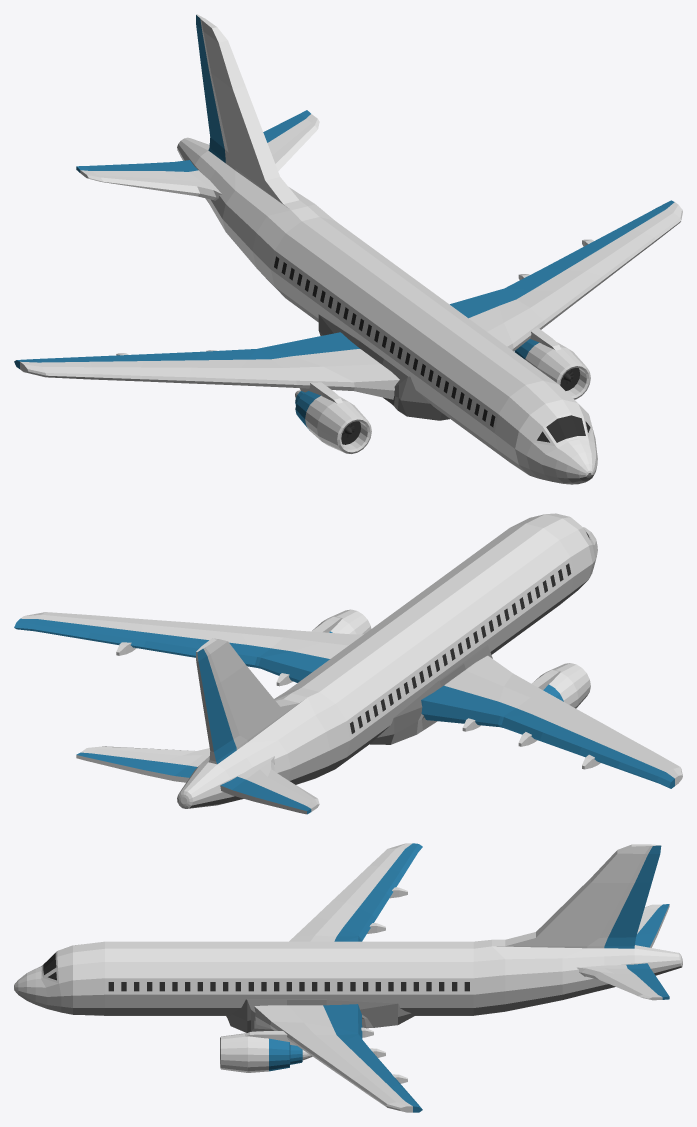
The model's file is Avion.obj.
The picture shows the model from 3 angles, top to bottom: view 1: azimuth 30°, elevation 25°; view 2: azimuth 150°, elevation 25°; view 3: azimuth 270°, elevation 25°; orthographic projection. The views are drawn at different scales.
Visible parts, largest first — view 1: 1405_Plane; view 2: 1405_Plane; view 3: 1405_Plane.
Part boxes in pixels (x1,y1,x2,y2): 1405_Plane: (14,14,682,484); 1405_Plane: (14,513,682,814); 1405_Plane: (14,843,682,1112).
Bounding box in the file's own units: 88.62 × 28.55 × 95.22.
